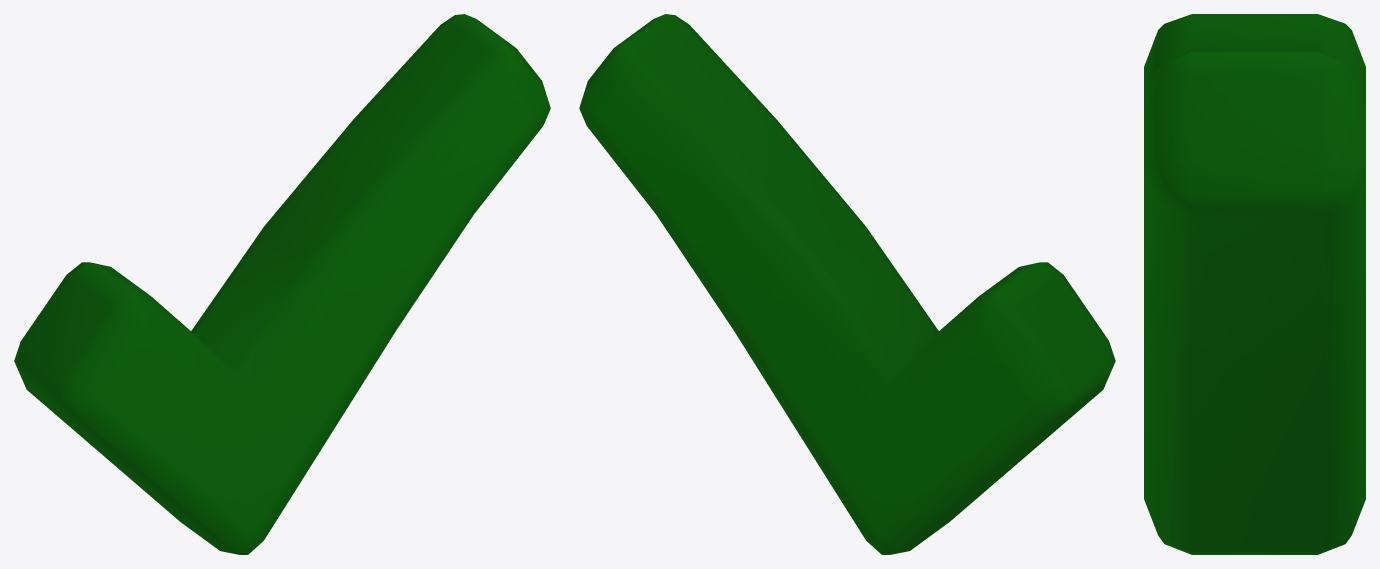
The model's file is icon_check.glb.
The picture shows the model from 3 angles, left to right: view 1: azimuth 30°, elevation 25°; view 2: azimuth 150°, elevation 25°; view 3: azimuth 270°, elevation 25°; orthographic projection. The views are drawn at different scales.
Visible parts, largest first — view 1: icon_check; view 2: icon_check; view 3: icon_check.
Part boxes in pixels (left/top/right/bottom): icon_check: left=14, top=14, right=550, bottom=554; icon_check: left=579, top=14, right=1115, bottom=554; icon_check: left=1144, top=14, right=1365, bottom=554.
Bounding box in the file's own units: 0.5131 × 0.4479 × 0.1277.
1 material, 1 textured.
